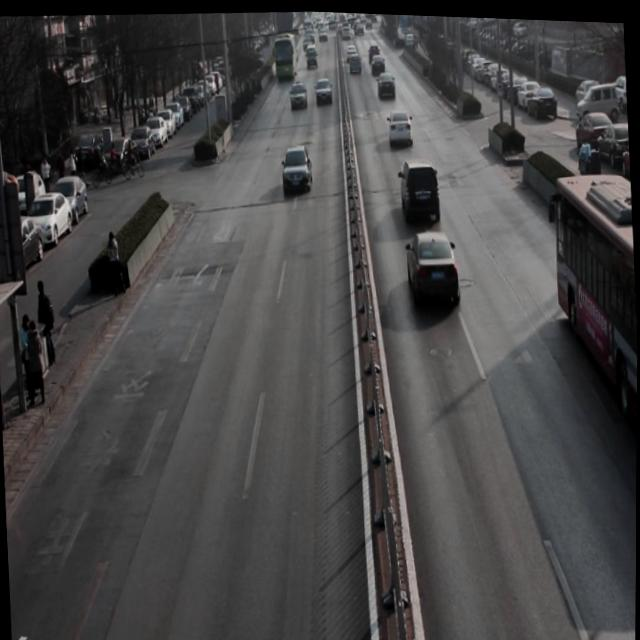car: (404, 224, 462, 308), (398, 153, 445, 223), (281, 142, 313, 196), (387, 106, 414, 145), (314, 74, 336, 106), (290, 78, 309, 110), (378, 67, 398, 96)
truck: (305, 42, 318, 68)
van: (551, 162, 639, 428)
